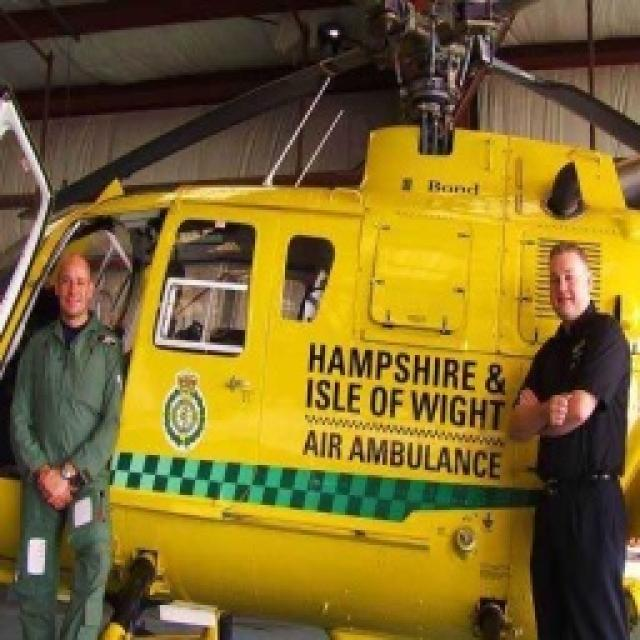ambulance: (105, 30, 637, 640)
